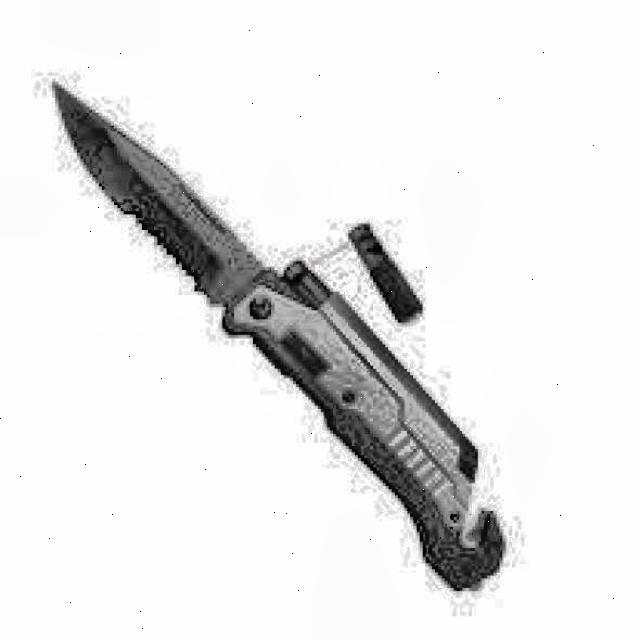knife: (47, 77, 511, 600)
